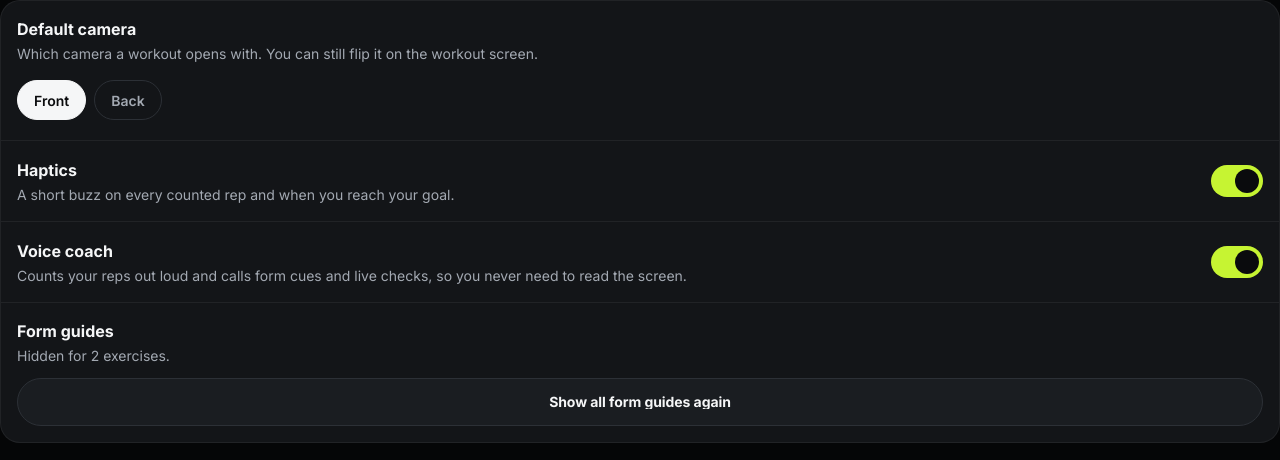
SettingsPanel › re-enables every hidden form guide
Expected: the text "Hidden for 2 exercises." is shown, [17, 347, 170, 364]
Click the button "Show all form guides again": (640, 402) [17, 378, 1263, 426]
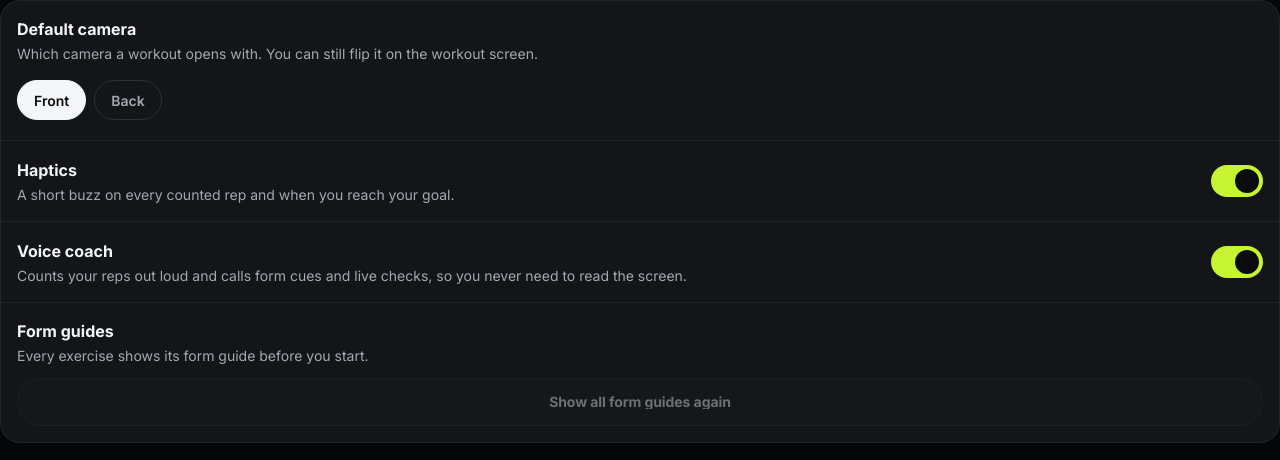
Expected: the text "Every exercise shows its form guide before you start." is shown, [17, 347, 368, 364]
Expected: the button "Show all form guides again" is disabled, [17, 378, 1263, 426]
